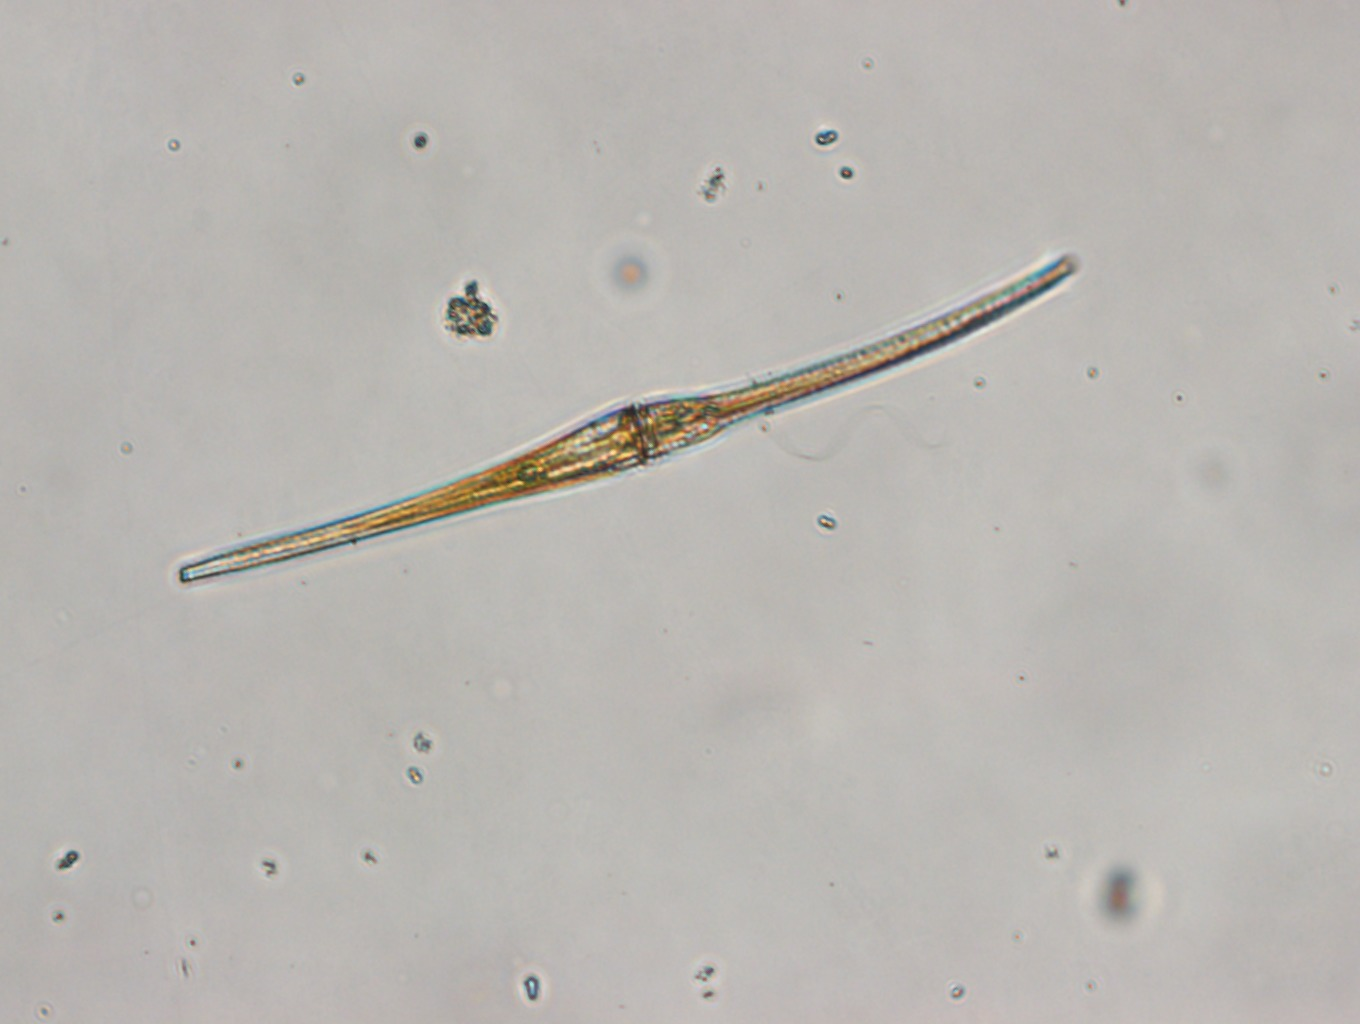ceratium fusus: (180, 255, 1080, 584)
